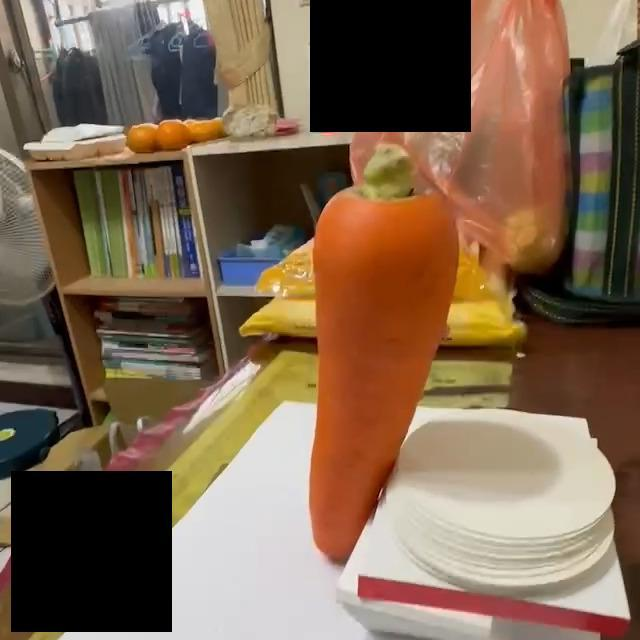carrot: (307, 143, 463, 566)
